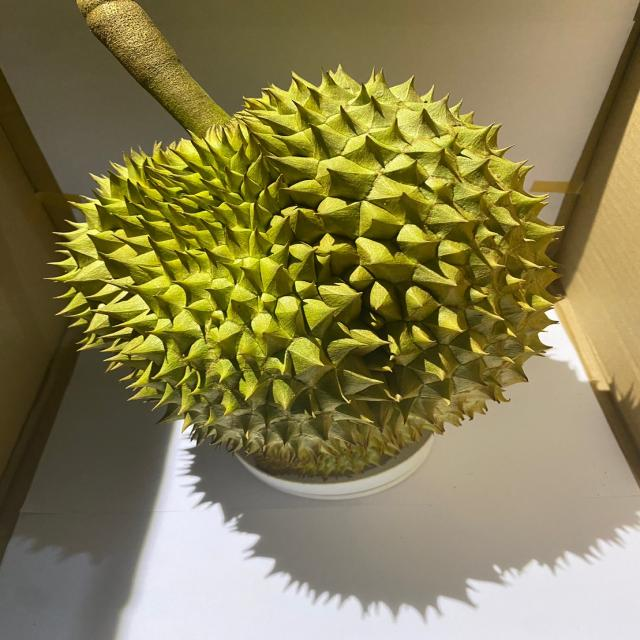immature: (51, 65, 568, 474)
